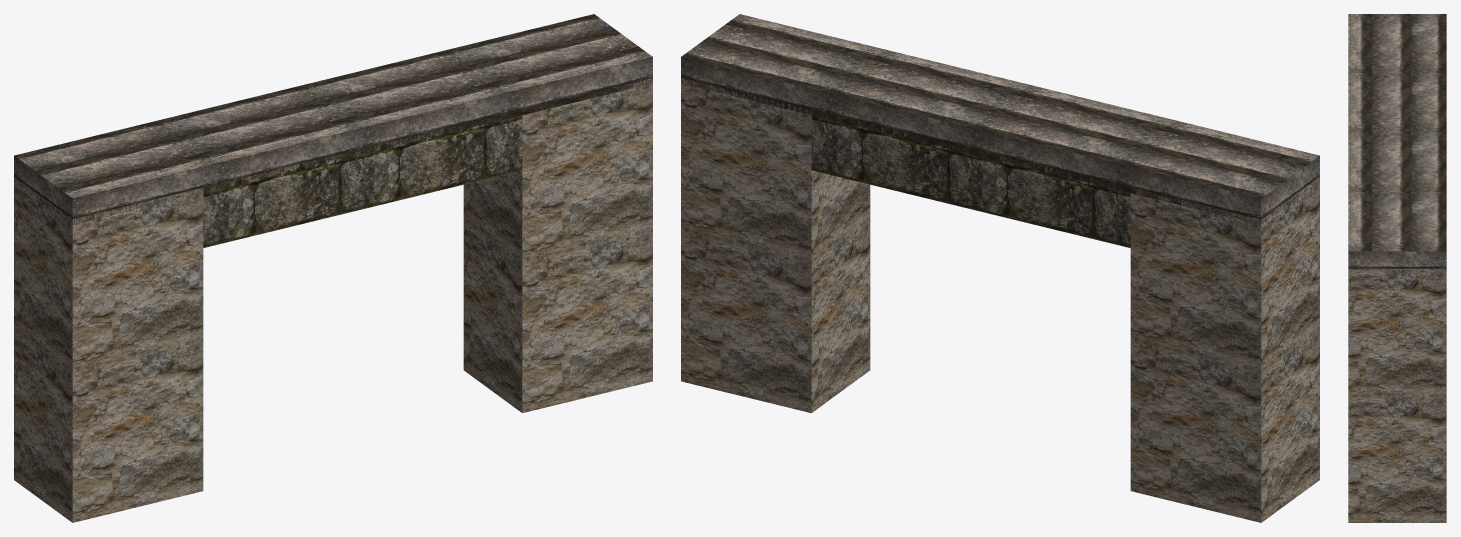
Rendered from toranlage_offen_8m.glb.
3 renders of one model, left to right at view 1: azimuth 30°, elevation 25°; view 2: azimuth 150°, elevation 25°; view 3: azimuth 270°, elevation 25°, orthographic. The views are drawn at different scales.
Visible parts, largest first — view 1: part_tuffmauer_moertel, part_treppenstein_abgelaufen, part_tuffstein_moosig; view 2: part_tuffmauer_moertel, part_treppenstein_abgelaufen, part_tuffstein_moosig; view 3: part_treppenstein_abgelaufen, part_tuffmauer_moertel.
Boxes of the visible parts, x1,y1,x2,y2 form: part_tuffmauer_moertel: (14, 78, 652, 522); part_treppenstein_abgelaufen: (14, 14, 652, 224); part_tuffstein_moosig: (203, 114, 522, 247); part_tuffmauer_moertel: (681, 78, 1319, 522); part_treppenstein_abgelaufen: (681, 14, 1319, 224); part_tuffstein_moosig: (811, 110, 1130, 247); part_treppenstein_abgelaufen: (1348, 14, 1446, 270); part_tuffmauer_moertel: (1348, 268, 1446, 522).
Size of the model in its own units: 8 by 4.28 by 1.4.
3 materials, 3 textured.
